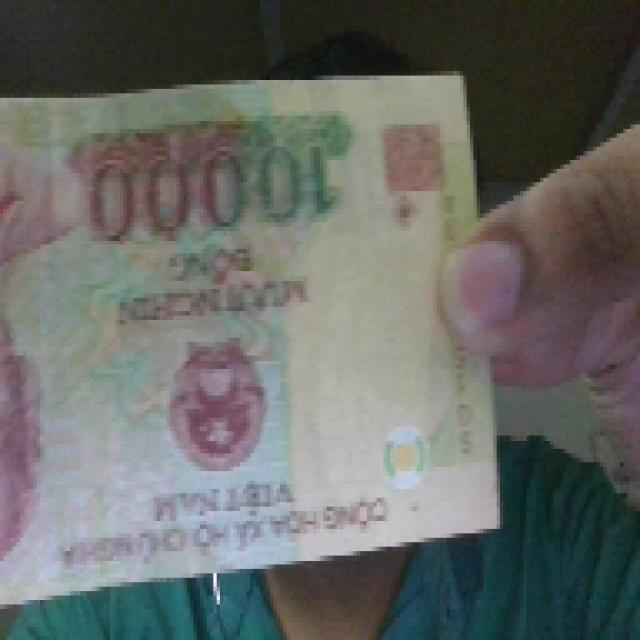10 000 VND: (0, 67, 507, 613)
